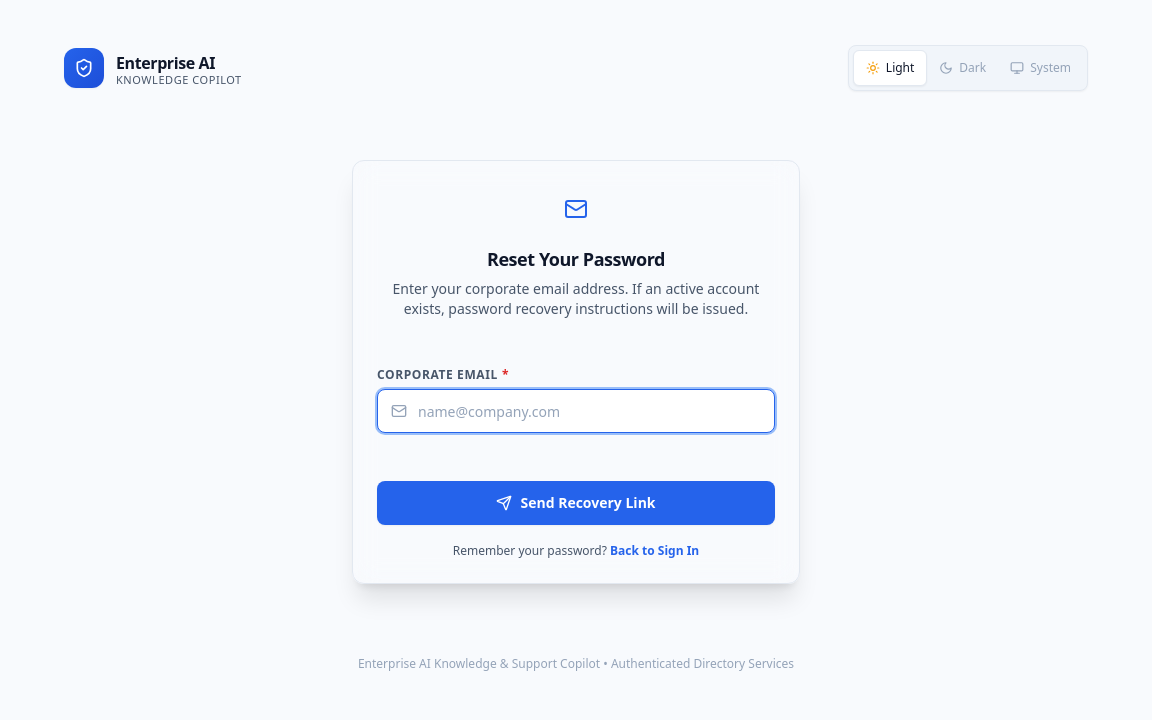
Test: ForgotPasswordPage Integration Tests › 2. Shows validation error when email is empty or invalid format
Click the button "Send Recovery Link" at point(576, 503), box [377,481,775,525]
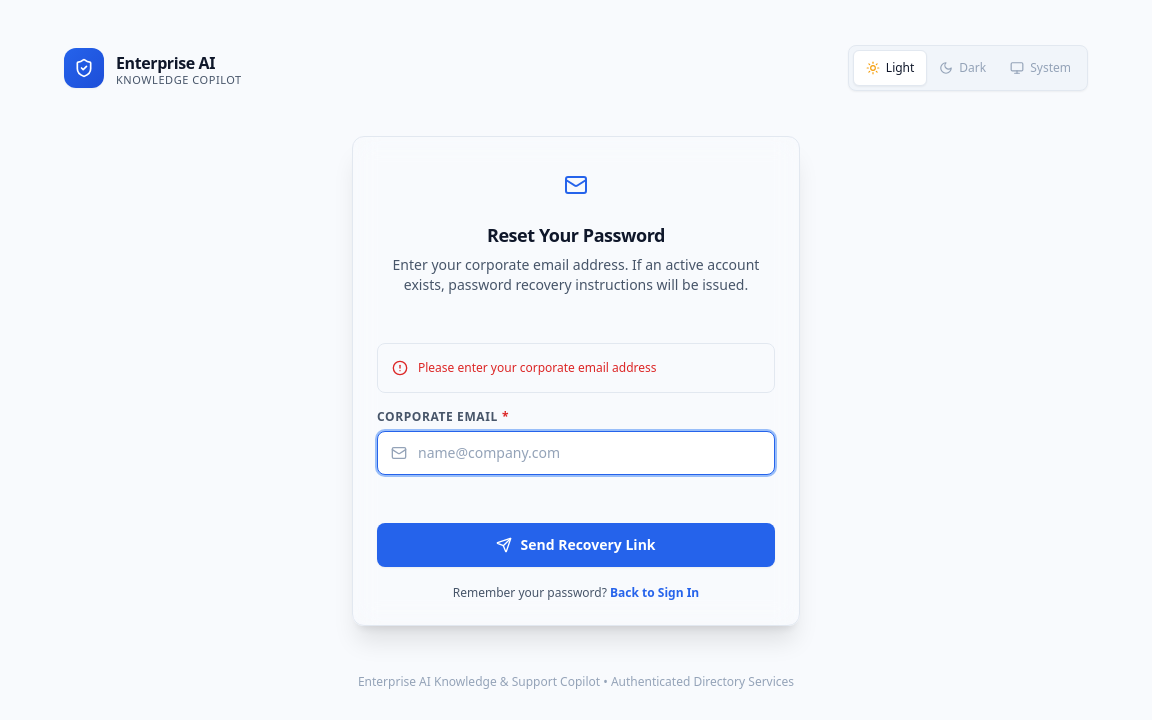
Check: the text "Please enter your corporate email address" is shown, box [418,359,656,376]
Type "not-an-email" into the field labelled "Corporate Email*" at point(576, 452), box [377,430,775,474]
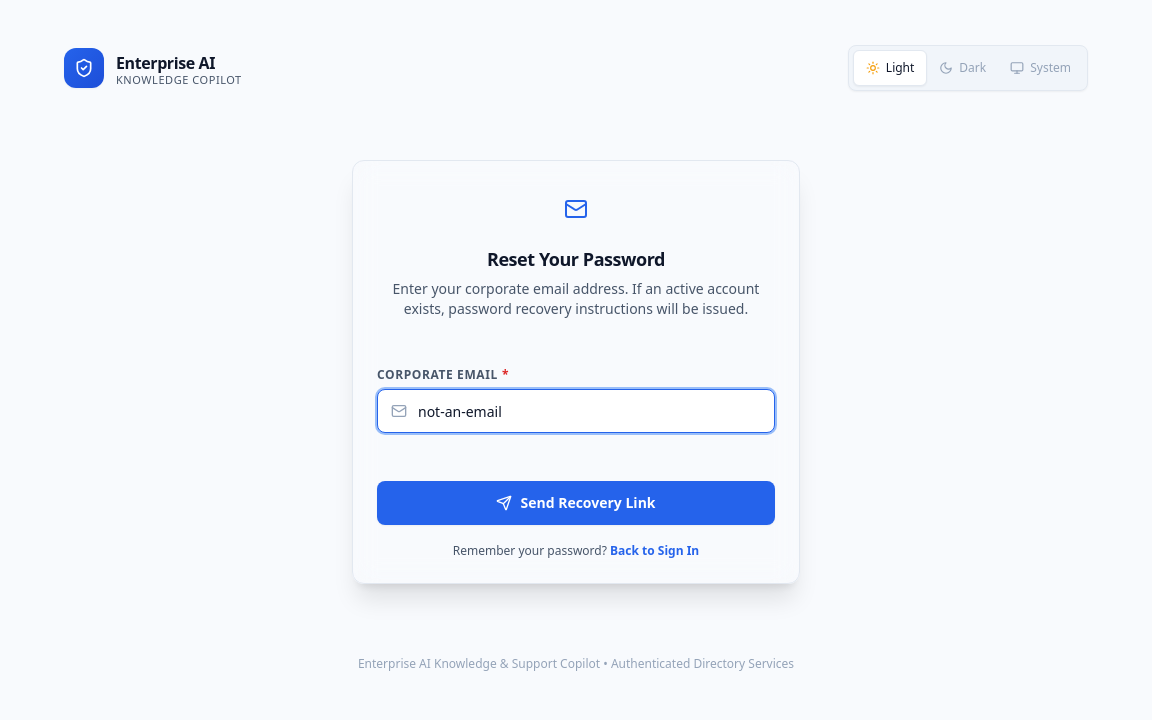
Click the button "Send Recovery Link" at point(576, 503), box [377,481,775,525]
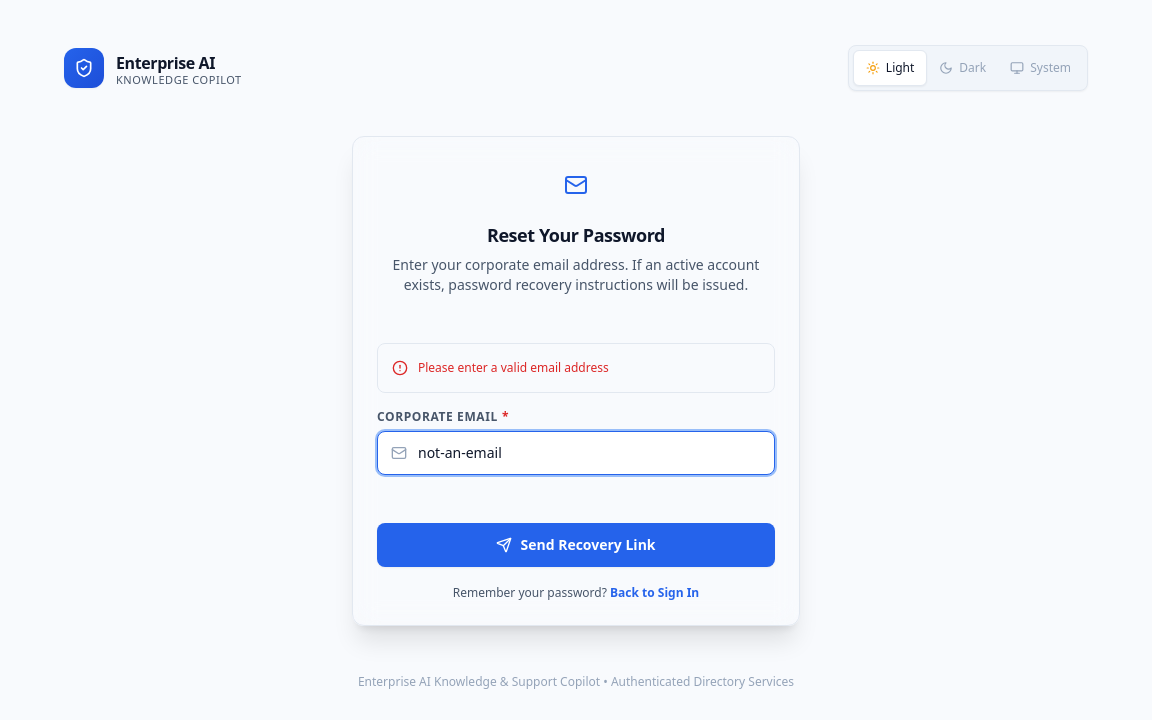
Check: the text "Please enter a valid email address" is shown, box [418,359,609,376]
